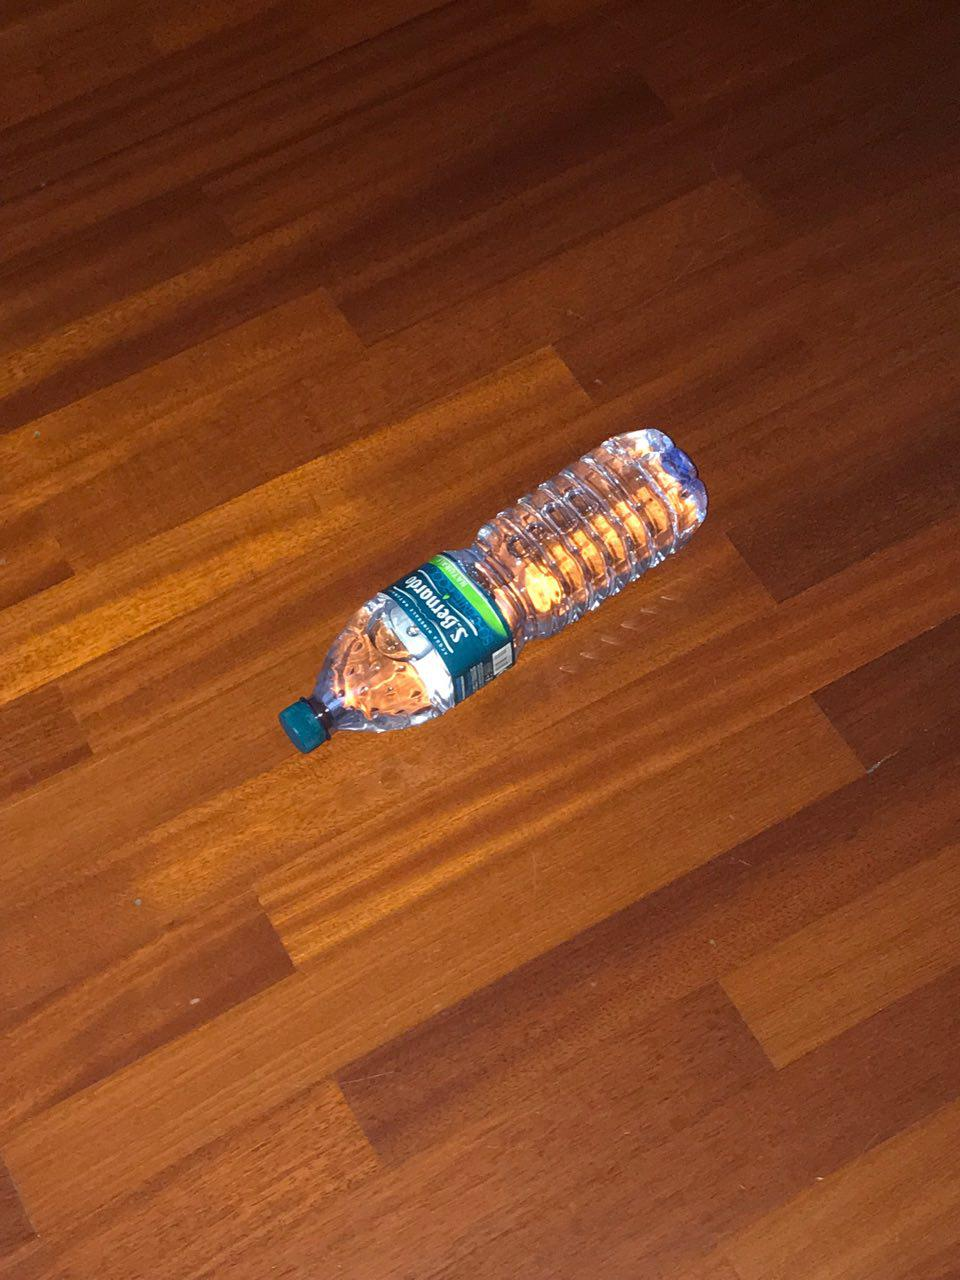san_bernardo: (278, 428, 711, 753)
